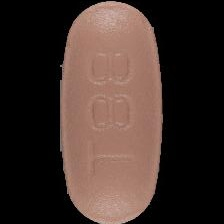50090-0591: (0, 0, 224, 224)
